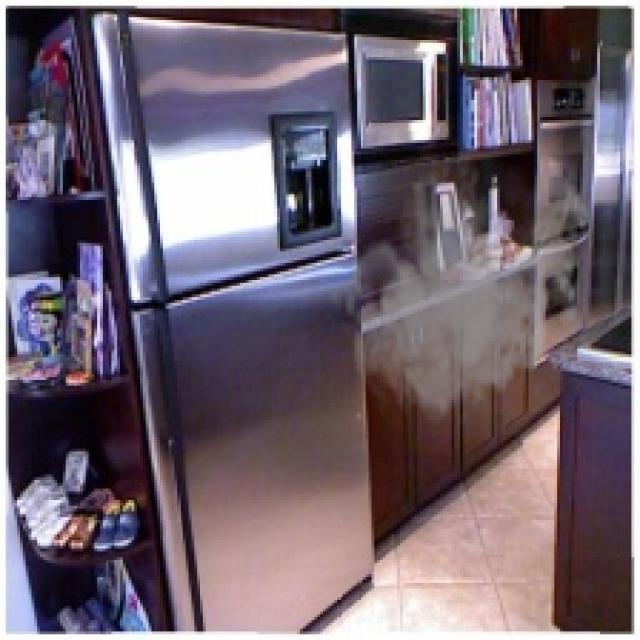Smoke: (326, 143, 594, 426)
